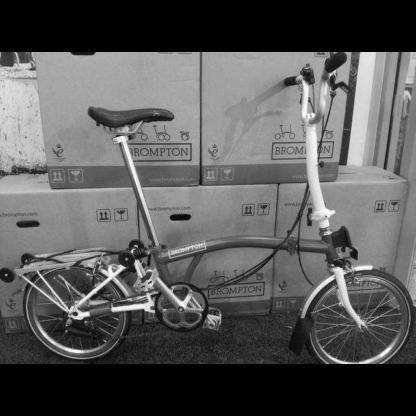Bicycle: (0, 54, 414, 370)
